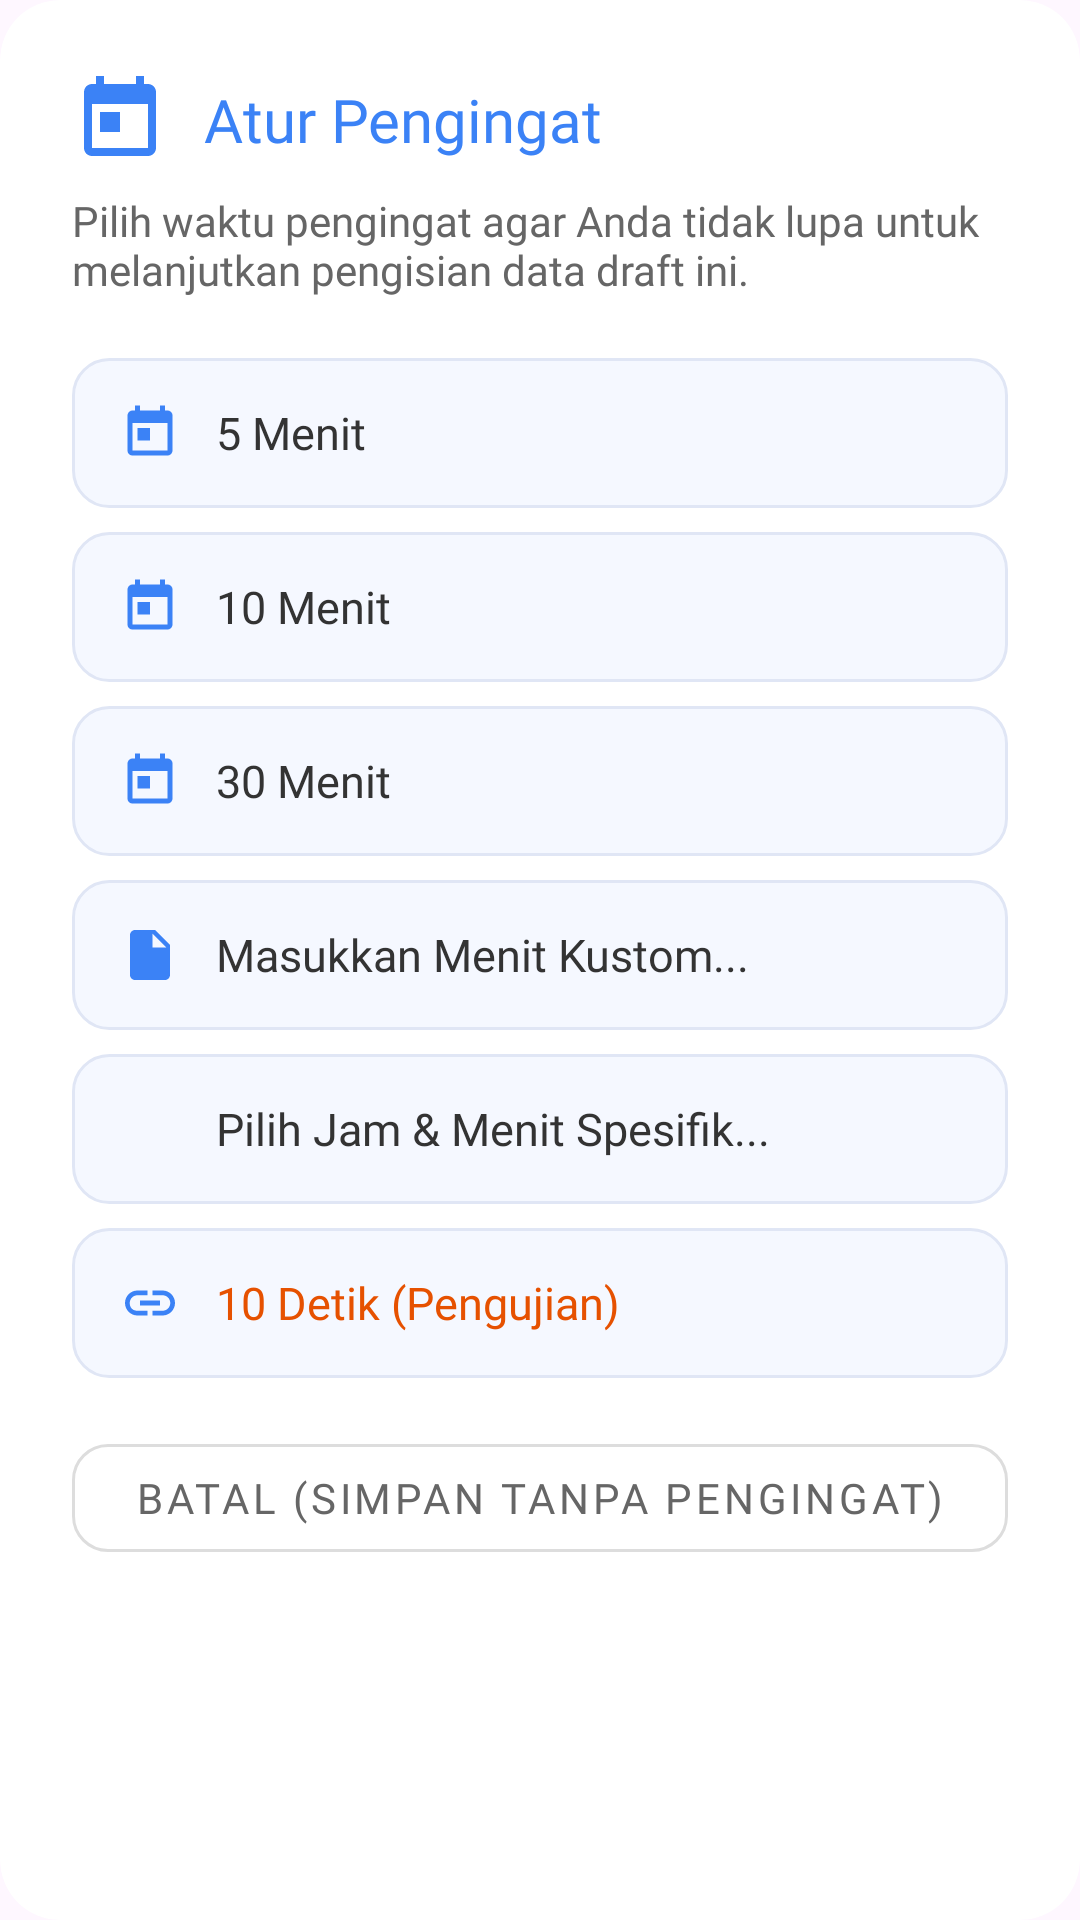

Where to tap for icons on this 1080w x 1920h app screen, as [x,y]:
calendar: [120,116], [150,430], [150,604], [150,778]
document: [150,955]
link: [150,1303]
